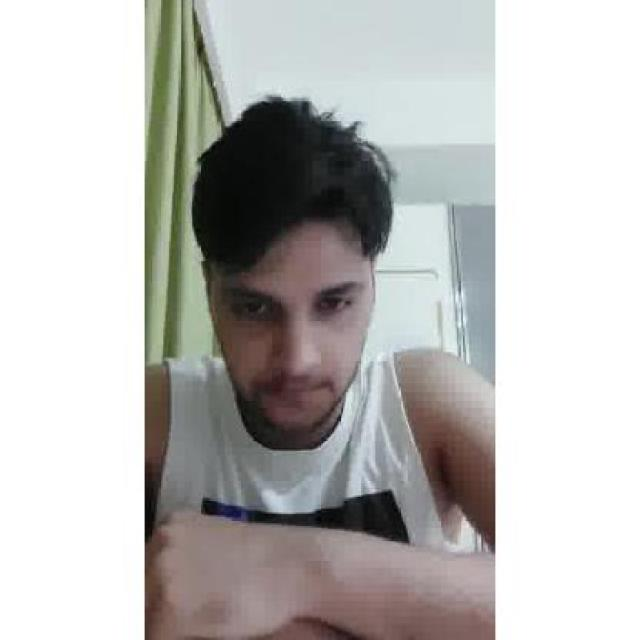inattentif: (197, 99, 375, 430)
